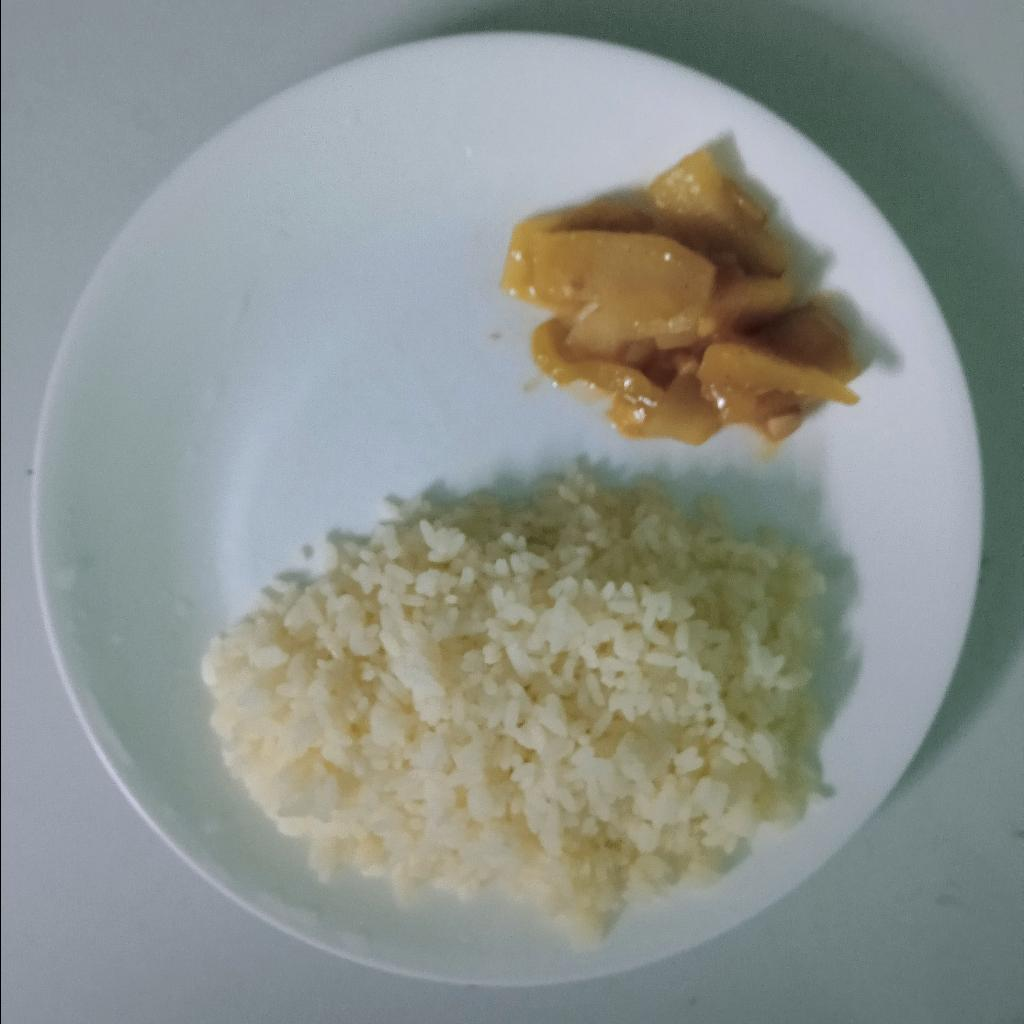lau: (500, 147, 864, 450)
rice: (208, 469, 823, 954)
